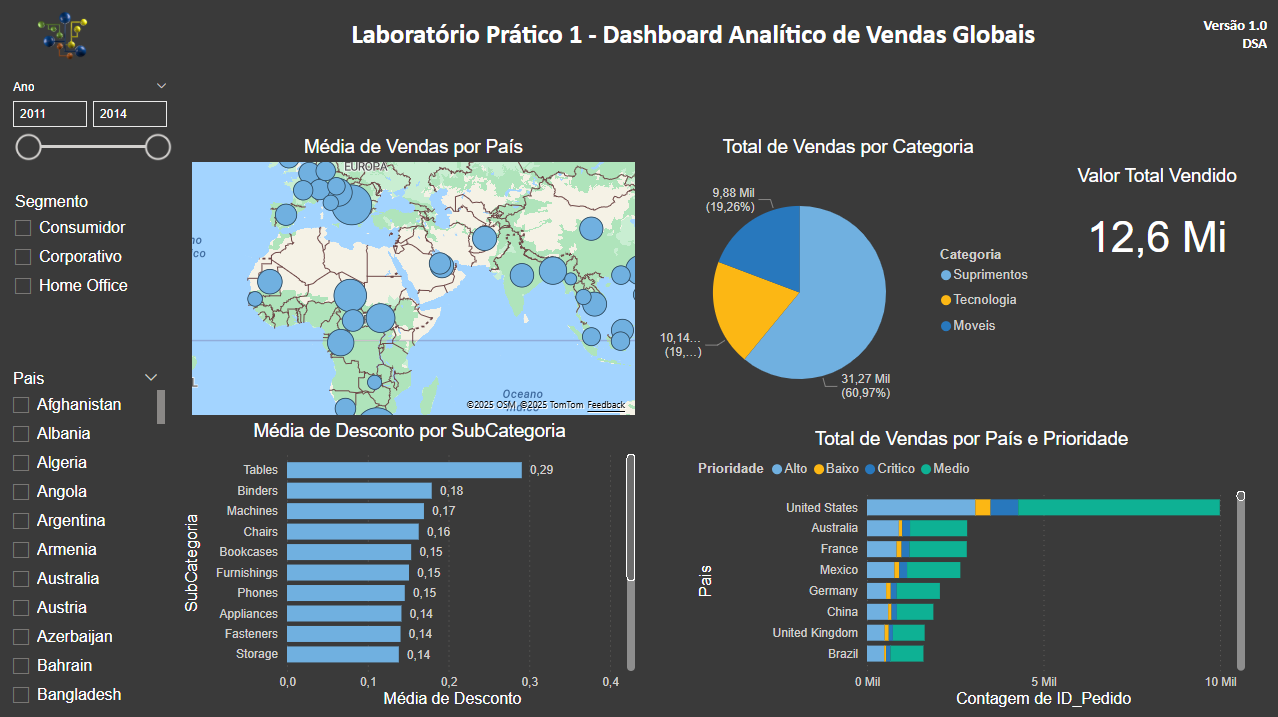

The page's visual inventory and layout, read from the dashboard file:
{"tool":"powerbi","page":{"name":"Página 1","canvas":[1280,720],"ordinal":0},"visuals":[{"type":"card","title":"Valor Total Vendido","fields":{"Values":["Sum(dataset.Total_Vendas)"]},"box":[1042,167,230,119],"z":0},{"type":"pieChart","title":"Total de Vendas por Categoria","fields":{"Category":["dataset.Categoria"],"Y":["CountNonNull(dataset.ID_Pedido)"]},"box":[654,138,388,292],"z":1000},{"type":"barChart","title":"Total de Vendas por País e Prioridade","fields":{"Category":["dataset.Pais"],"Series":["dataset.Prioridade"],"Y":["CountNonNull(dataset.ID_Pedido)"]},"box":[693,430,557,284],"z":2000},{"type":"clusteredBarChart","fields":{"Category":["dataset.SubCategoria"],"Y":["Avg(dataset.Desconto)"]},"box":[179,422,461,292],"z":3000},{"type":"map","title":"Média de Vendas por País","fields":{"Category":["dataset.Pais"],"Size":["Avg(dataset.Total_Vendas)"]},"box":[187,138,453,284],"z":4000},{"type":"slicer","fields":{"Values":["dataset.Pais"]},"box":[0,367,170,347],"z":5000},{"type":"slicer","fields":{"Values":["dataset.Segmento"]},"box":[2,190,165,118],"z":6000},{"type":"slicer","fields":{"Values":["dataset.Data_Pedido.Variation.Hierarquia de datas.Ano"]},"box":[0,77,179,90],"z":7000},{"type":"image","box":[10,7,105,62],"z":8000},{"type":"textbox","box":[344,0,698,62],"z":9000},{"type":"textbox","box":[1073,13,199,49],"z":10000}]}

Visuals, with their boxes in screenshot pixels (x1, y1, x2, y2), scaled from the page's 1280x720 canvas onto the 1278x717 screenshot:
"Valor Total Vendido" card: locate(1040, 166, 1270, 285)
"Total de Vendas por Categoria" pieChart: locate(653, 137, 1040, 428)
"Total de Vendas por País e Prioridade" barChart: locate(692, 428, 1248, 711)
clusteredBarChart - dataset.SubCategoria x Avg(dataset.Desconto): locate(179, 420, 639, 711)
"Média de Vendas por País" map: locate(187, 137, 639, 420)
slicer - dataset.Pais: locate(0, 365, 170, 711)
slicer - dataset.Segmento: locate(2, 189, 167, 307)
slicer - dataset.Data_Pedido.Variation.Hierarquia de datas.Ano: locate(0, 77, 179, 166)
image: locate(10, 7, 115, 69)
textbox: locate(343, 0, 1040, 62)
textbox: locate(1071, 13, 1270, 62)
